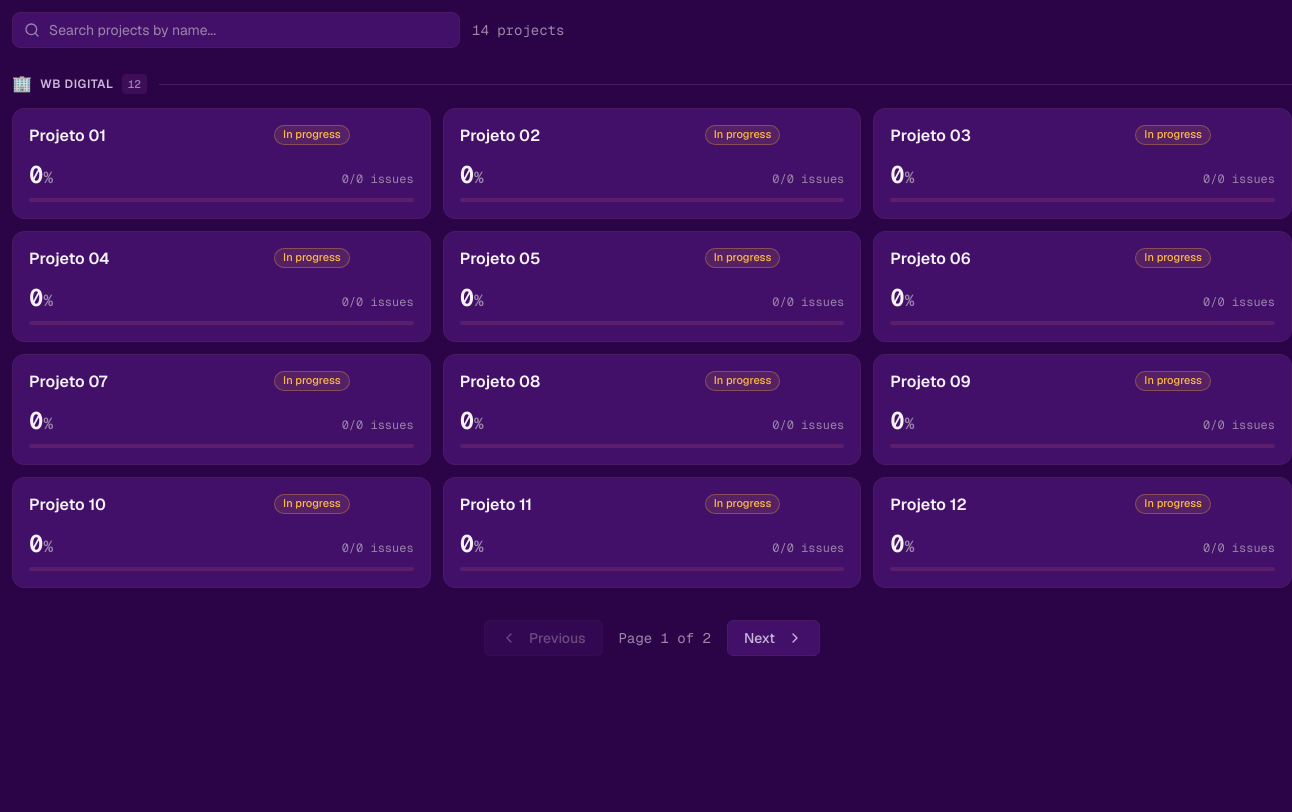
Scenario: ProjectsListClient — paginação › pagina o resultado filtrado, não a lista inteira
// "Projeto 1" casa 10..14 → 5 resultados (não "Projeto 01"), cabe numa página
Type "Projeto 1" into the search field labelled "Search projects by name" at (236, 30), box [12,12,460,48]
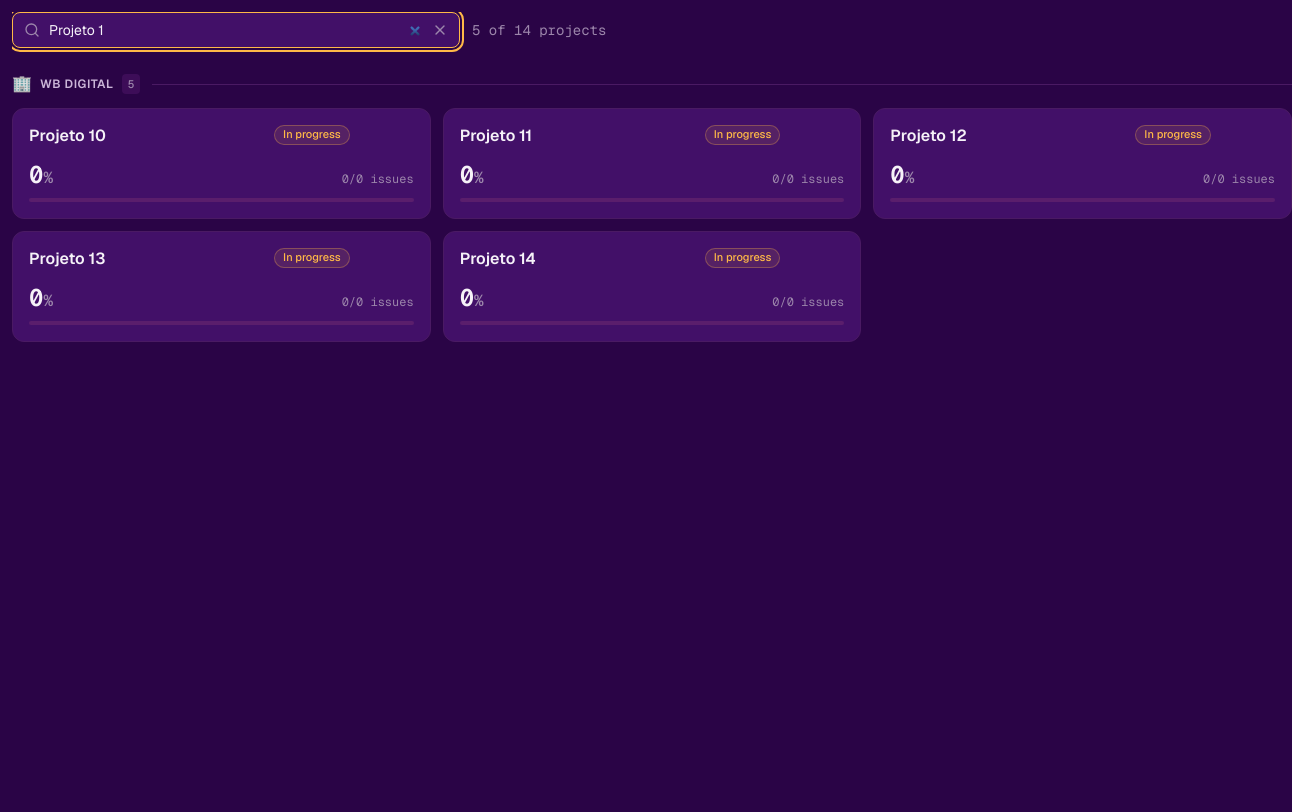
Now the text "5 of 14 projects" is shown, box [472,20,606,40]
Now the heading "Projeto 14" is shown, box [460,248,536,269]
